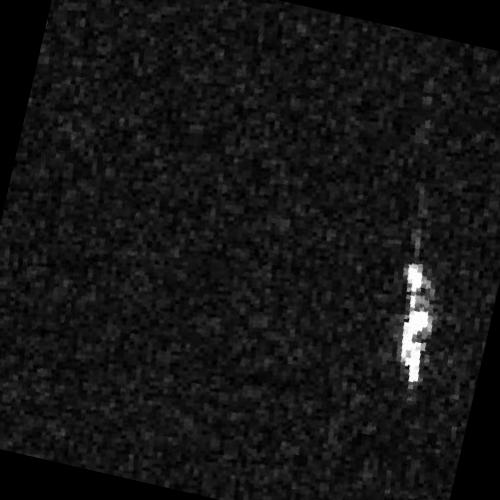ship: (398, 261, 433, 385)
